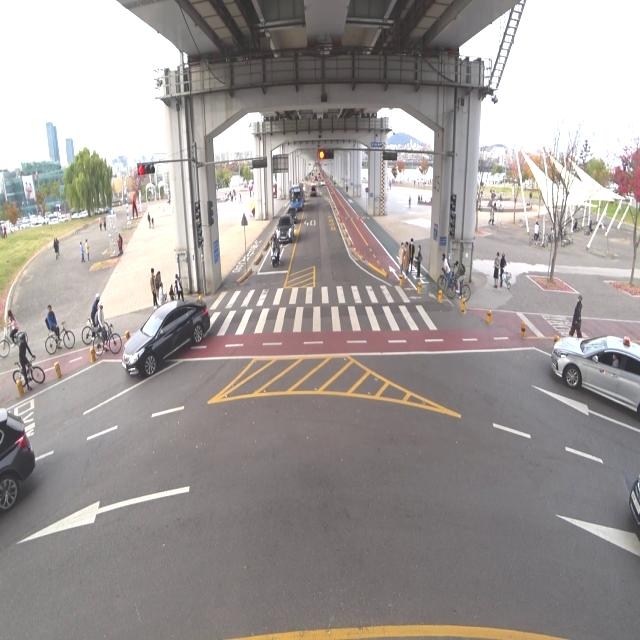Bus: (286, 180, 304, 216)
Car: (118, 279, 217, 386), (545, 322, 640, 420), (0, 382, 40, 526), (625, 449, 640, 546), (275, 213, 296, 242), (286, 204, 300, 224), (309, 184, 319, 202)
Motorcycle: (269, 232, 280, 266)
